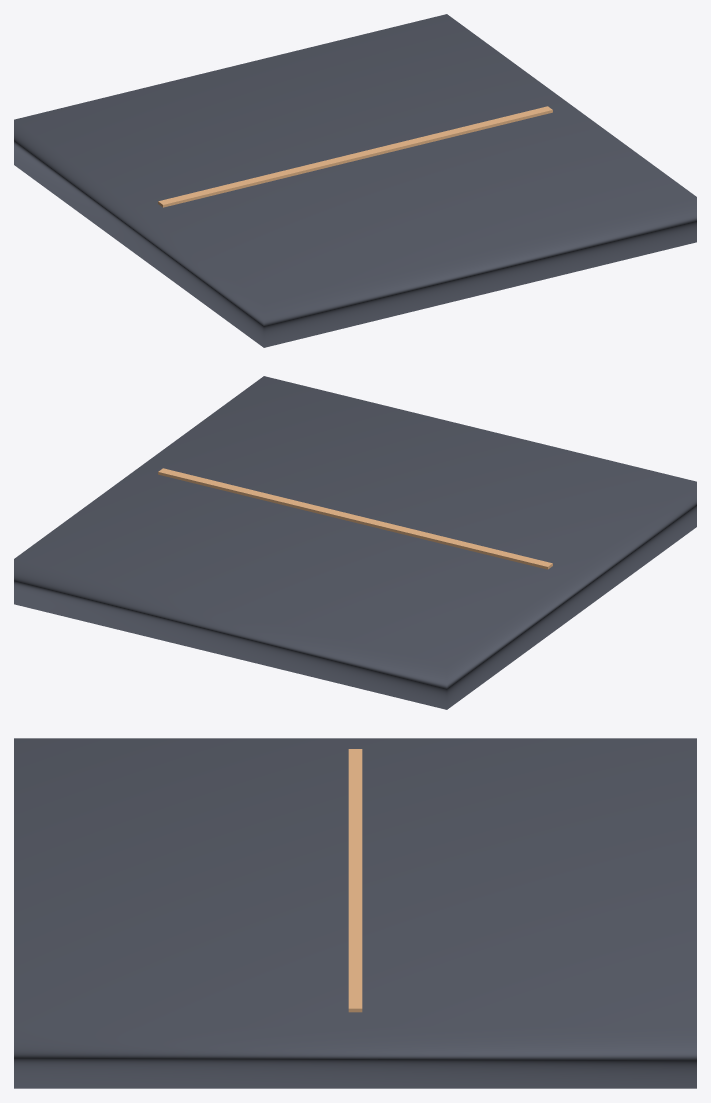
File: die-block.glb
The picture shows the model from 3 angles, top to bottom: view 1: azimuth 30°, elevation 25°; view 2: azimuth 150°, elevation 25°; view 3: azimuth 270°, elevation 25°; orthographic projection. The views are drawn at different scales.
Parts seen in each view (by area): view 1: DieBody, DieTrace; view 2: DieBody, DieTrace; view 3: DieBody, DieTrace.
Part boxes in pixels (bbox=[...]): DieBody: bbox=[14, 14, 696, 347]; DieTrace: bbox=[158, 106, 552, 207]; DieBody: bbox=[14, 376, 696, 709]; DieTrace: bbox=[158, 468, 552, 569]; DieBody: bbox=[14, 738, 696, 1088]; DieTrace: bbox=[348, 749, 362, 1012].
Size of the model in its own units: 1 by 0.106 by 1.
